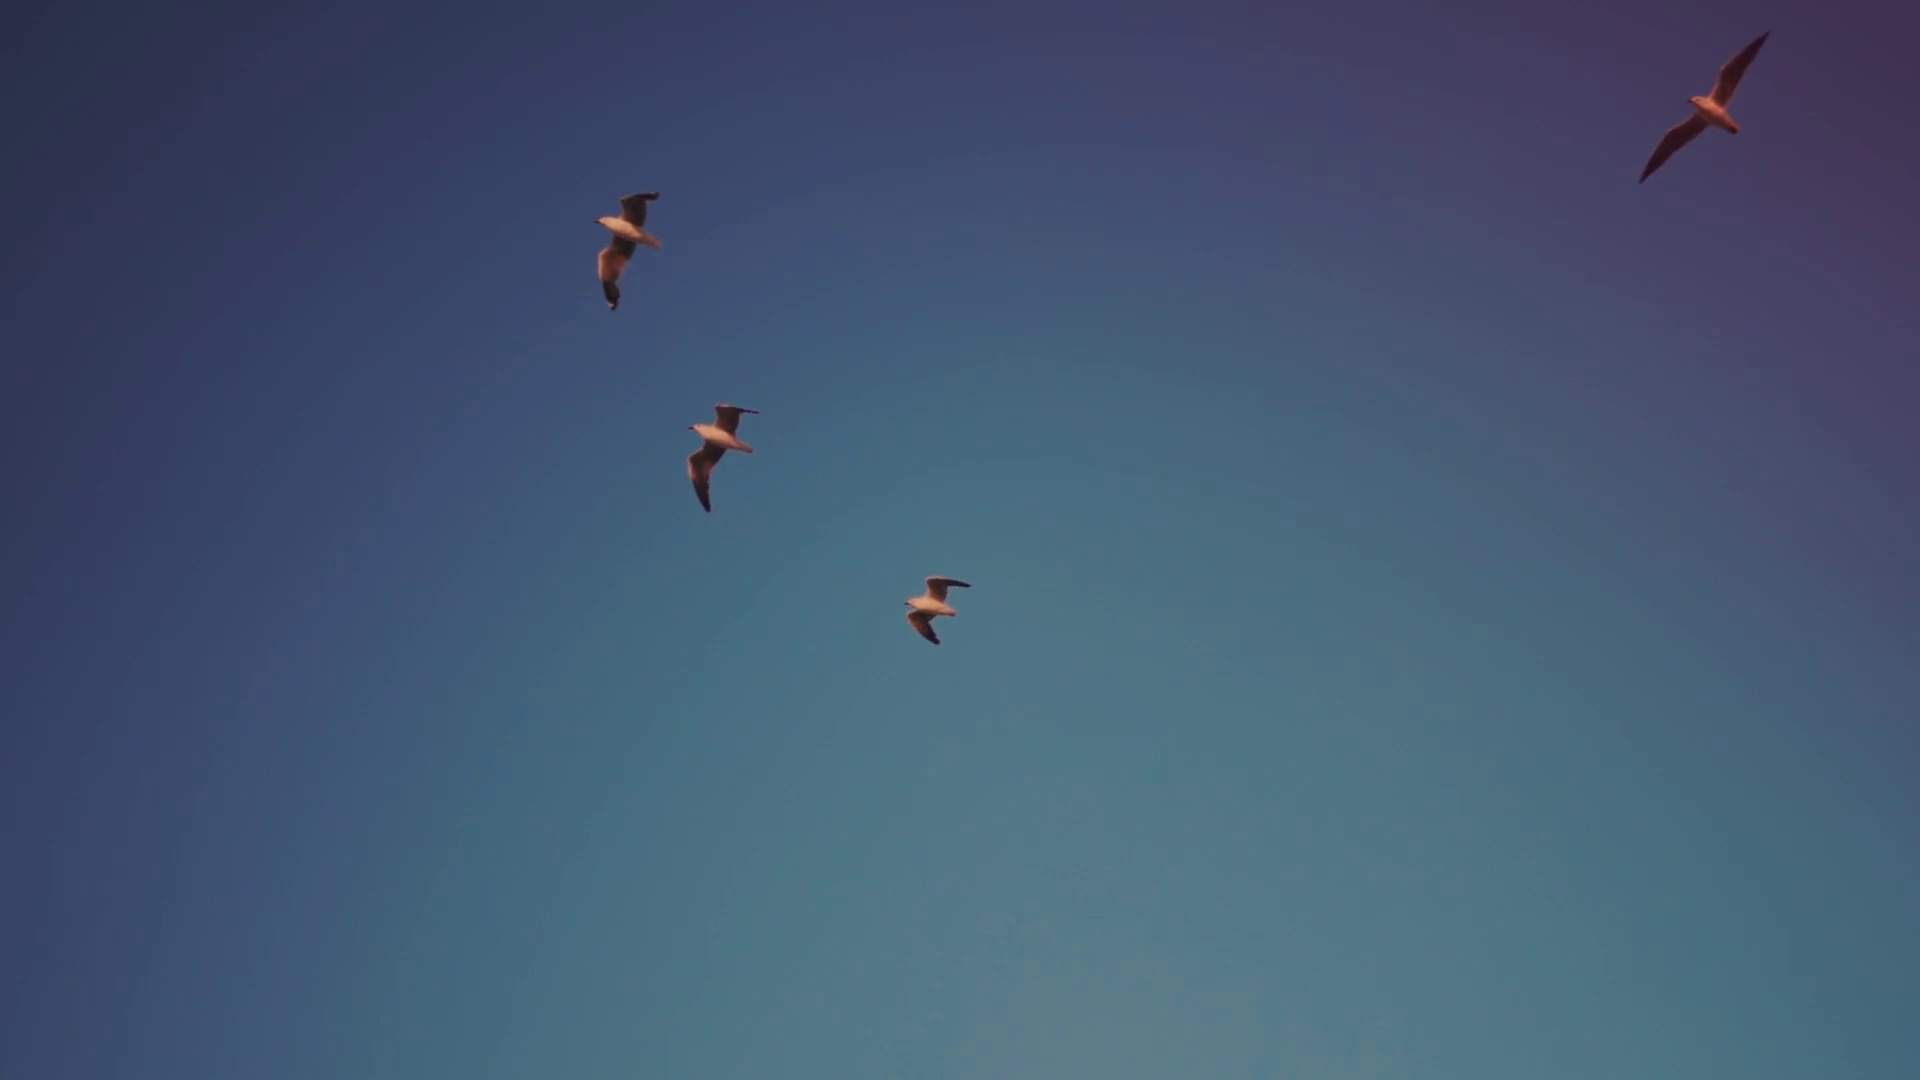bird: (1636, 34, 1776, 181), (593, 189, 659, 310), (687, 400, 756, 510), (905, 570, 969, 644)
